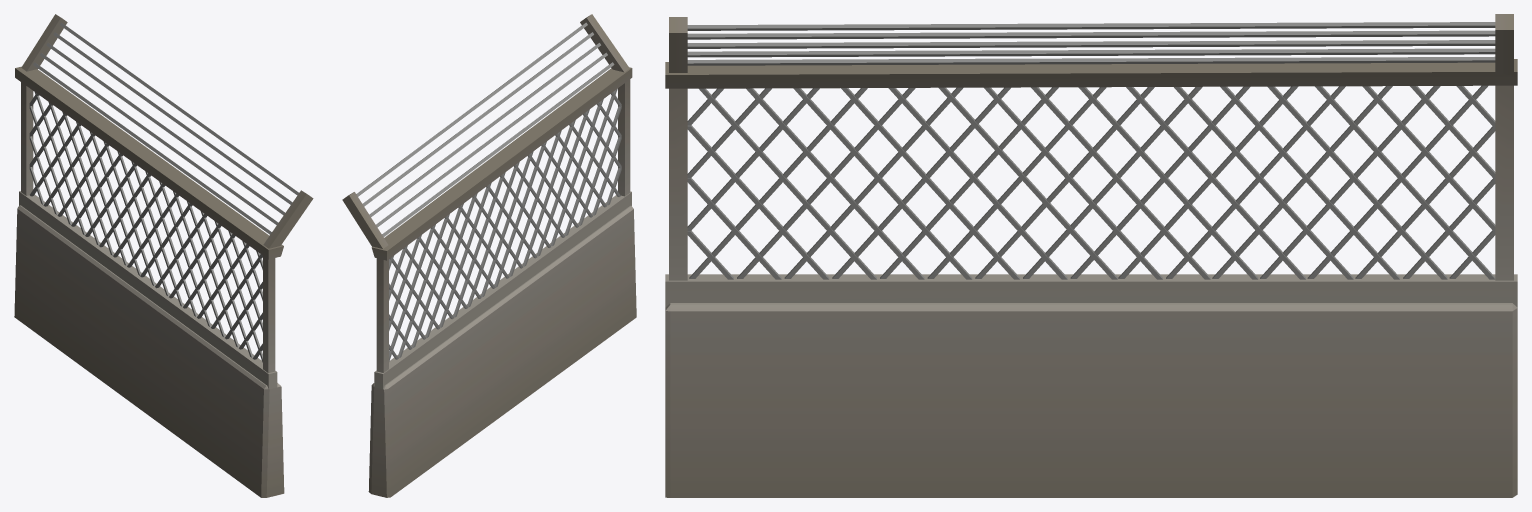
File: Fence_6_1_C.fbx
3 views of the same model, side by side, from view 1: azimuth 30°, elevation 25°; view 2: azimuth 150°, elevation 25°; view 3: azimuth 270°, elevation 25° (orthographic). The views are drawn at different scales.
Visible parts, largest first — view 1: Fence_6_1_C; view 2: Fence_6_1_C; view 3: Fence_6_1_C.
Boxes of the visible parts, x1,y1,x2,y2 form: Fence_6_1_C: (14, 14, 313, 497); Fence_6_1_C: (342, 14, 636, 497); Fence_6_1_C: (665, 14, 1517, 497).
Bounding box in the file's own units: 72.15 × 388 × 600.
